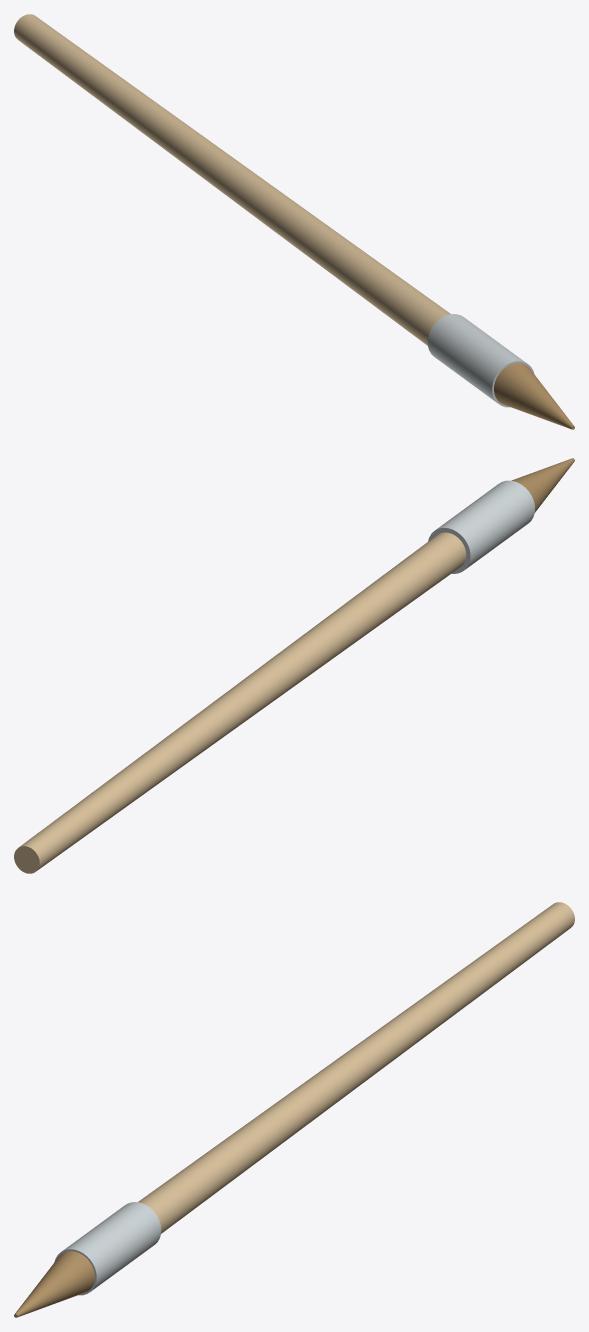
File: tabletop-hobby-store-and-club-fine-detail-brush-177e3e63__31592.glb
3 views of the same model, one above another, from view 1: azimuth 30°, elevation 25°; view 2: azimuth 150°, elevation 25°; view 3: azimuth 330°, elevation 25° (orthographic).
Visible parts, largest first — view 1: fine-detail-brush; view 2: fine-detail-brush; view 3: fine-detail-brush.
Part boxes in pixels (x1,y1,x2,y2): fine-detail-brush: (14, 14, 574, 429); fine-detail-brush: (14, 458, 574, 873); fine-detail-brush: (14, 902, 574, 1317).
Size of the model in its own units: 0.005 by 0.005 by 0.11.
